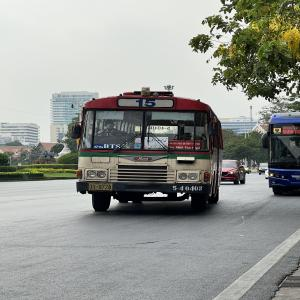BMTA-bus: (75, 88, 224, 213)
Bus Line Number: (131, 97, 162, 108)
Bus Side Number: (169, 184, 206, 192)
Destination Sign: (165, 139, 203, 150)
TSB-Bus: (263, 112, 300, 197)
